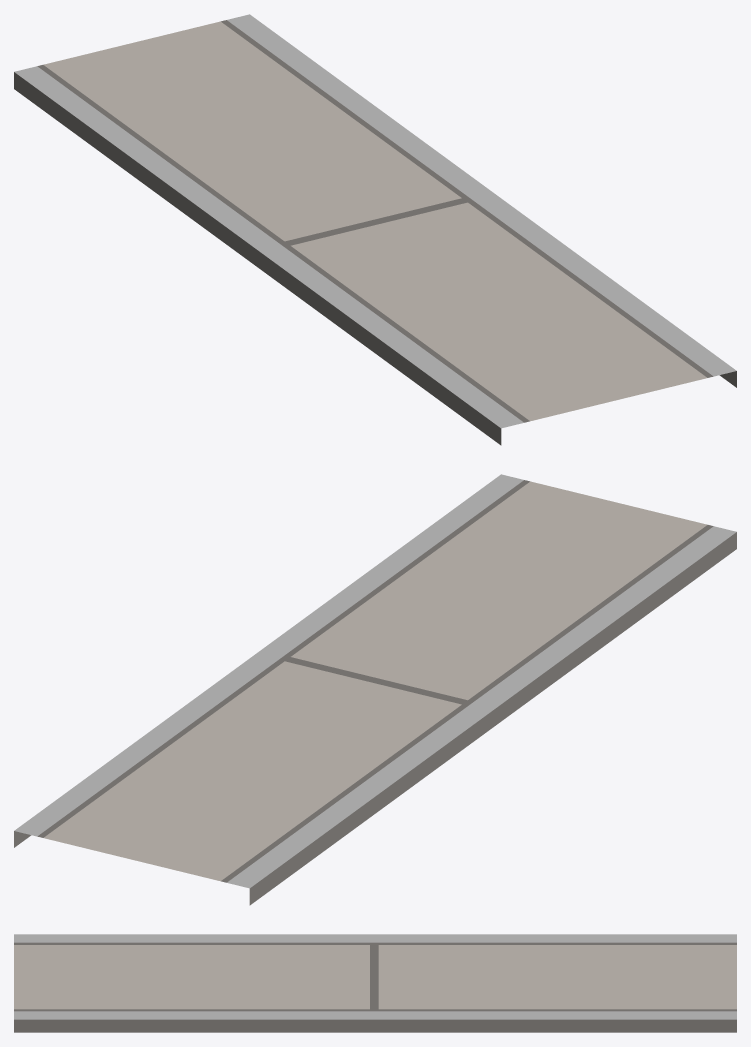
File: SA_Env_Path_Straight_01.gltf
3 renders of one model, top to bottom at view 1: azimuth 30°, elevation 25°; view 2: azimuth 150°, elevation 25°; view 3: azimuth 270°, elevation 25°, orthographic. The views are drawn at different scales.
Visible parts, largest first — view 1: SA_Env_Path_Straight_01; view 2: SA_Env_Path_Straight_01; view 3: SA_Env_Path_Straight_01.
Part boxes in pixels (x1=…): SA_Env_Path_Straight_01: x1=14, y1=14, x2=736, y2=445; SA_Env_Path_Straight_01: x1=14, y1=474, x2=736, y2=905; SA_Env_Path_Straight_01: x1=14, y1=934, x2=736, y2=1032.
Size of the model in its own units: 2.79 by 0.1948 by 10.
Materials: 1 (1 with a texture image).
